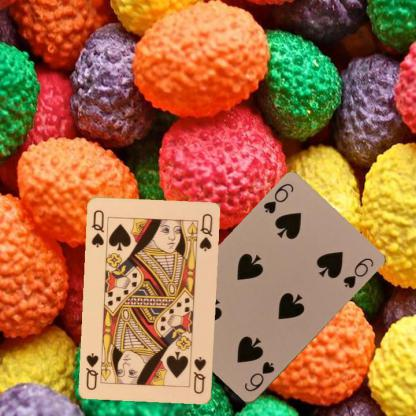6s: (242, 359, 276, 393), (261, 181, 295, 215)
Qs: (191, 354, 208, 396), (89, 207, 106, 249)
